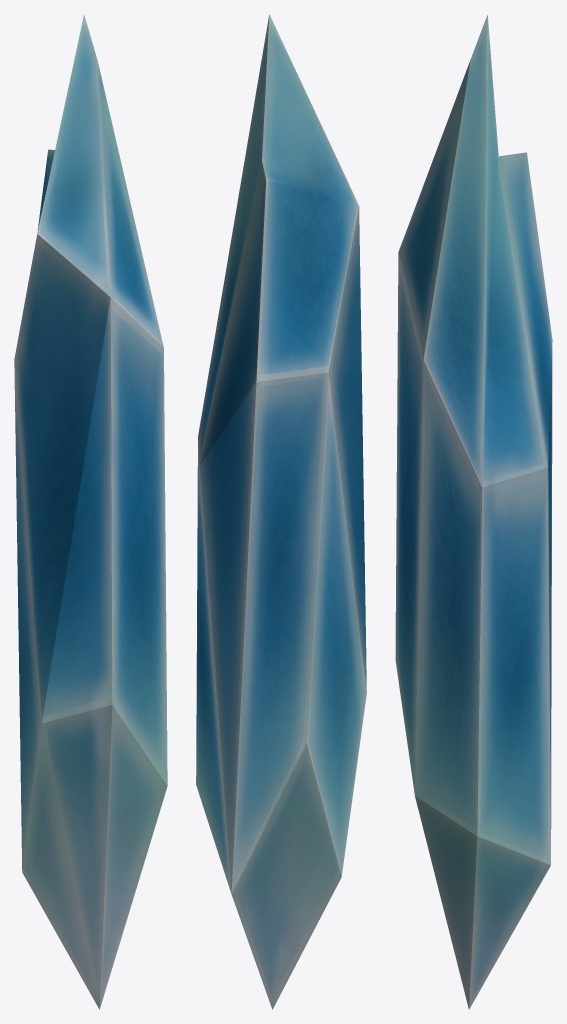
File: Gems_4.fbx
The picture shows the model from 3 angles, left to right: view 1: azimuth 30°, elevation 25°; view 2: azimuth 150°, elevation 25°; view 3: azimuth 270°, elevation 25°; orthographic projection.
Parts seen in each view (by area): view 1: Gems_1; view 2: Gems_1; view 3: Gems_1.
Part boxes in pixels (bbox=[...]): Gems_1: bbox=[14, 14, 167, 1009]; Gems_1: bbox=[196, 14, 366, 1009]; Gems_1: bbox=[395, 15, 552, 1009].
Size of the model in its own units: 0.7315 by 4.72 by 0.677.
